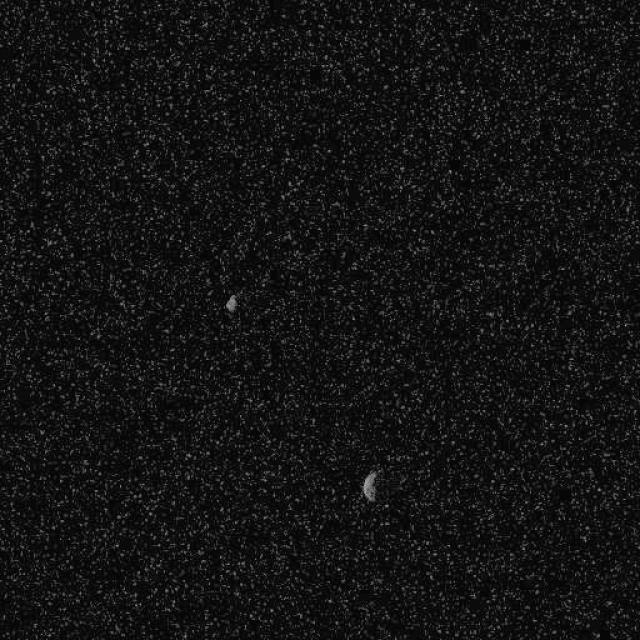D2: (360, 468, 379, 502), (224, 292, 238, 314)
